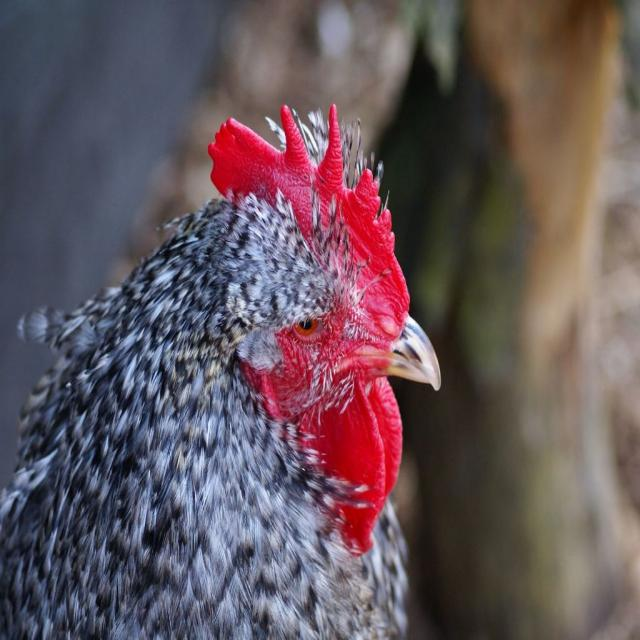Chicken: (0, 103, 441, 640)
